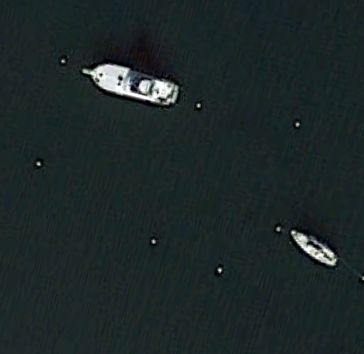boat: (81, 63, 182, 109), (290, 227, 339, 268)
